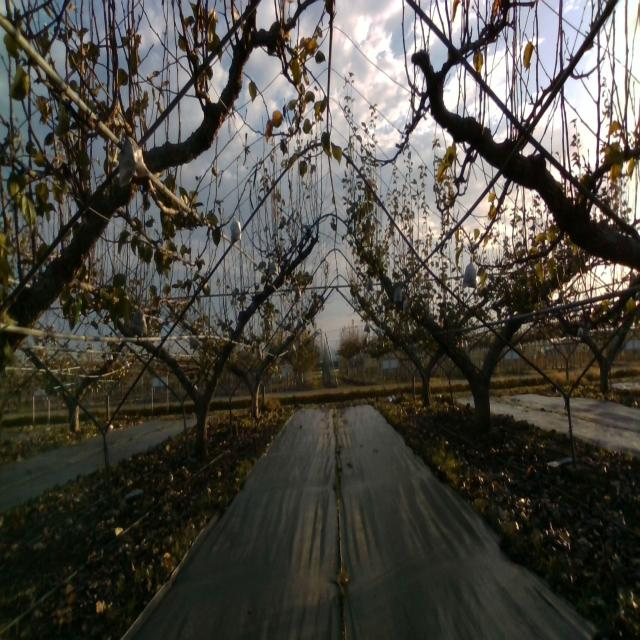pearbags: (118, 134, 150, 187), (462, 256, 477, 288), (230, 216, 242, 242), (268, 260, 280, 278)
